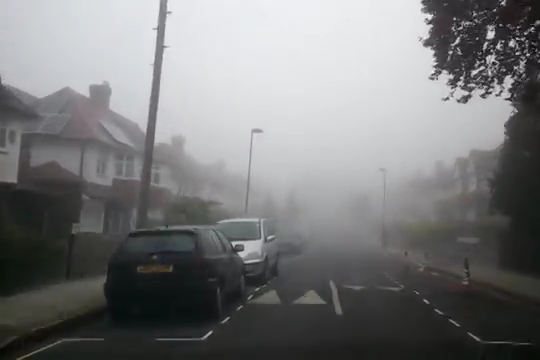car: (104, 227, 247, 324), (205, 217, 280, 284), (273, 229, 303, 256)
